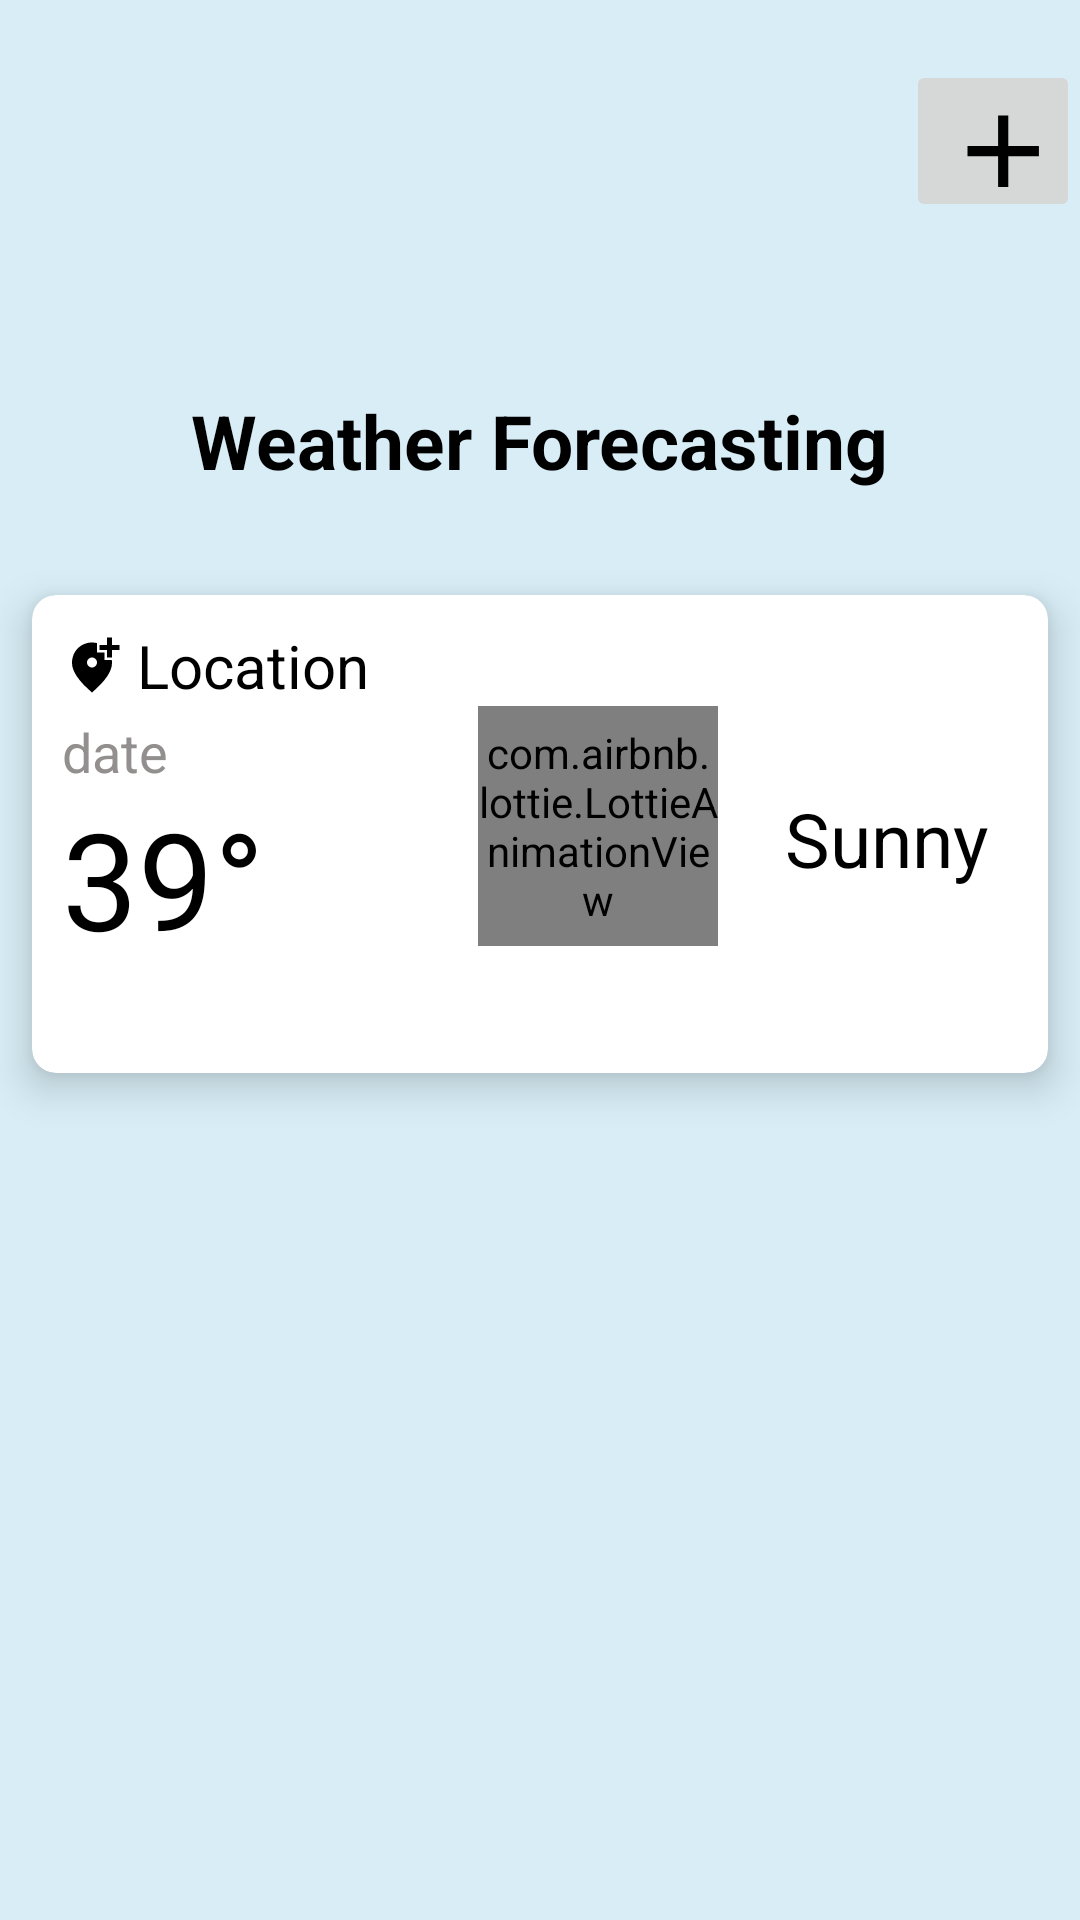

Icon click points for this 1080 × 1920 phone screenshot, format [x,y]:
add: [993,141]
